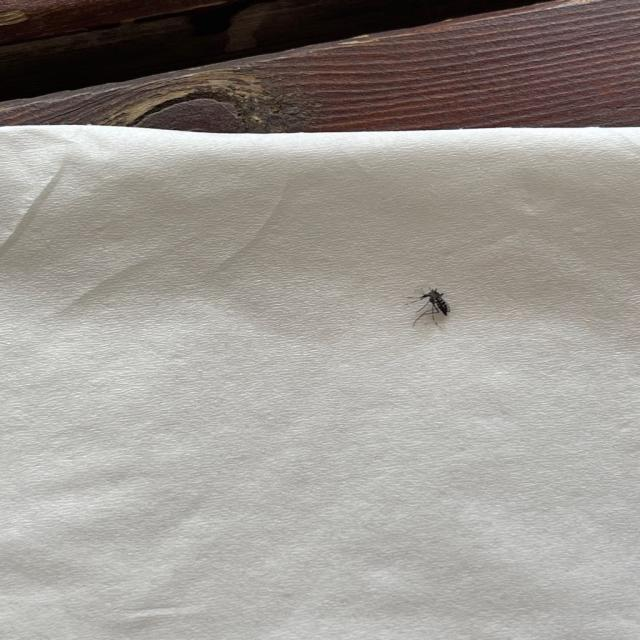albopictus: (403, 284, 465, 332)
